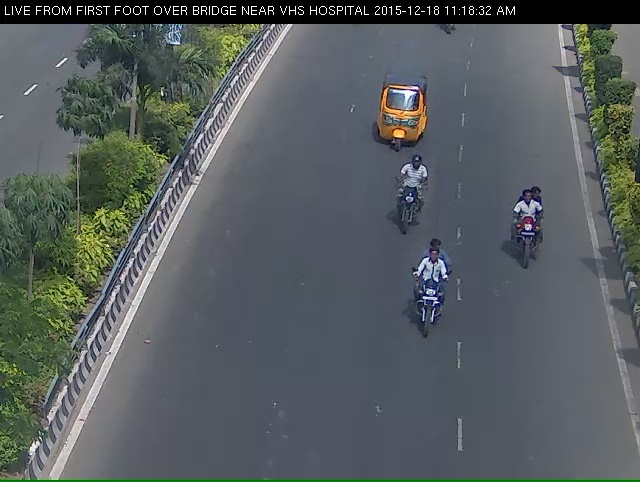Auto: (373, 72, 428, 160)
Person: (414, 255, 450, 351), (512, 193, 546, 274), (393, 168, 423, 243)
